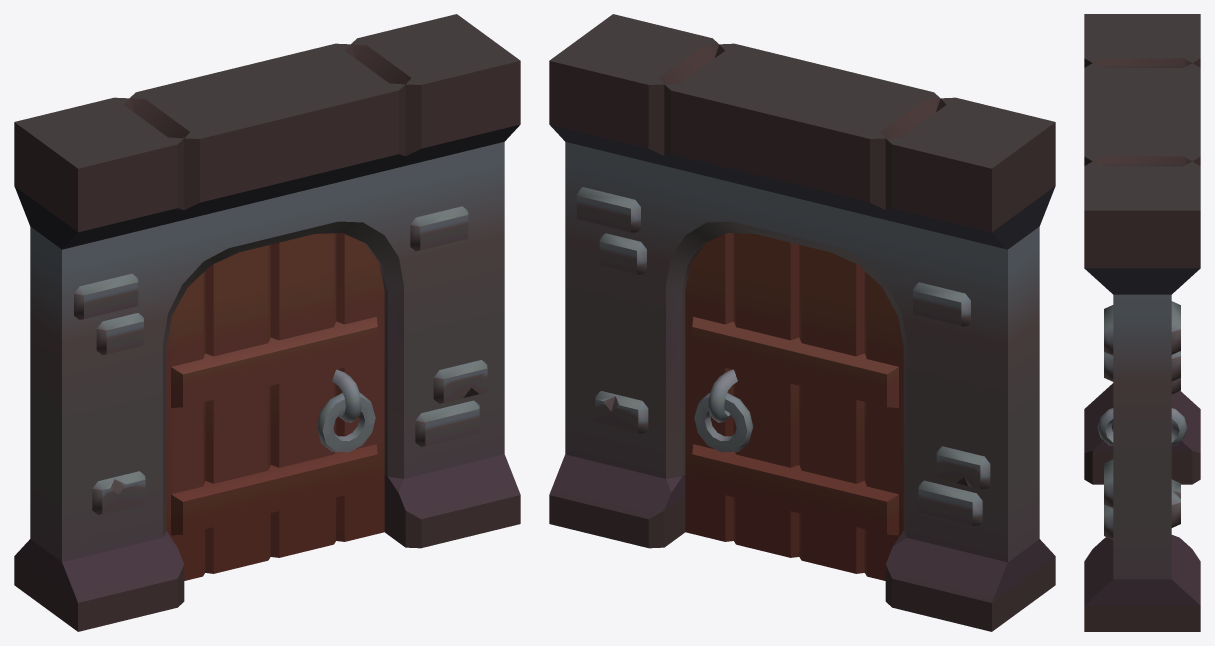
The model's file is wall-door.glb.
3 views of the same model, side by side, from view 1: azimuth 30°, elevation 25°; view 2: azimuth 150°, elevation 25°; view 3: azimuth 270°, elevation 25° (orthographic). The views are drawn at different scales.
Parts seen in each view (by area): view 1: wall-door, wall_doorway_door; view 2: wall-door, wall_doorway_door; view 3: wall-door, wall_doorway_door.
Boxes of the visible parts, x1,y1,x2,y2 form: wall-door: (14, 14, 520, 631); wall_doorway_door: (166, 233, 384, 580); wall-door: (549, 14, 1055, 631); wall_doorway_door: (685, 233, 903, 580); wall-door: (1084, 14, 1200, 631); wall_doorway_door: (1097, 408, 1187, 445).
Size of the model in its own units: 4 by 4 by 1.
1 material, 1 textured.
